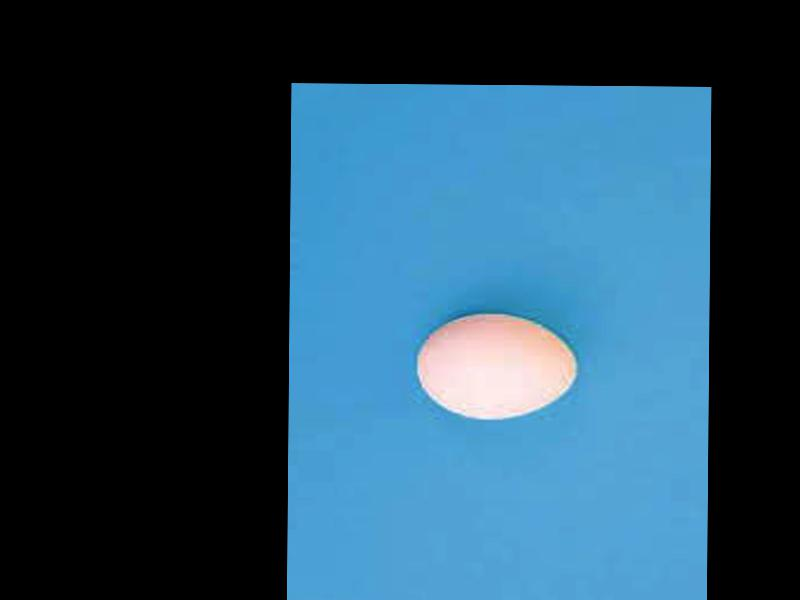Eggs: (416, 311, 580, 418)
